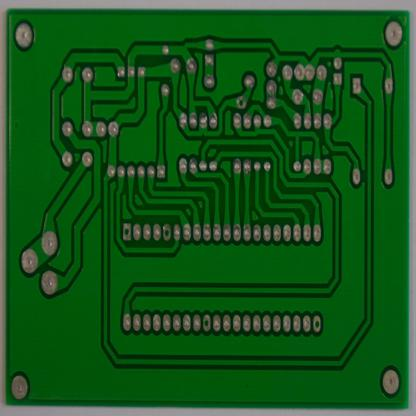missing_hole: (311, 313, 323, 334), (201, 313, 213, 332), (235, 94, 247, 110), (162, 223, 172, 242), (122, 222, 132, 240)
